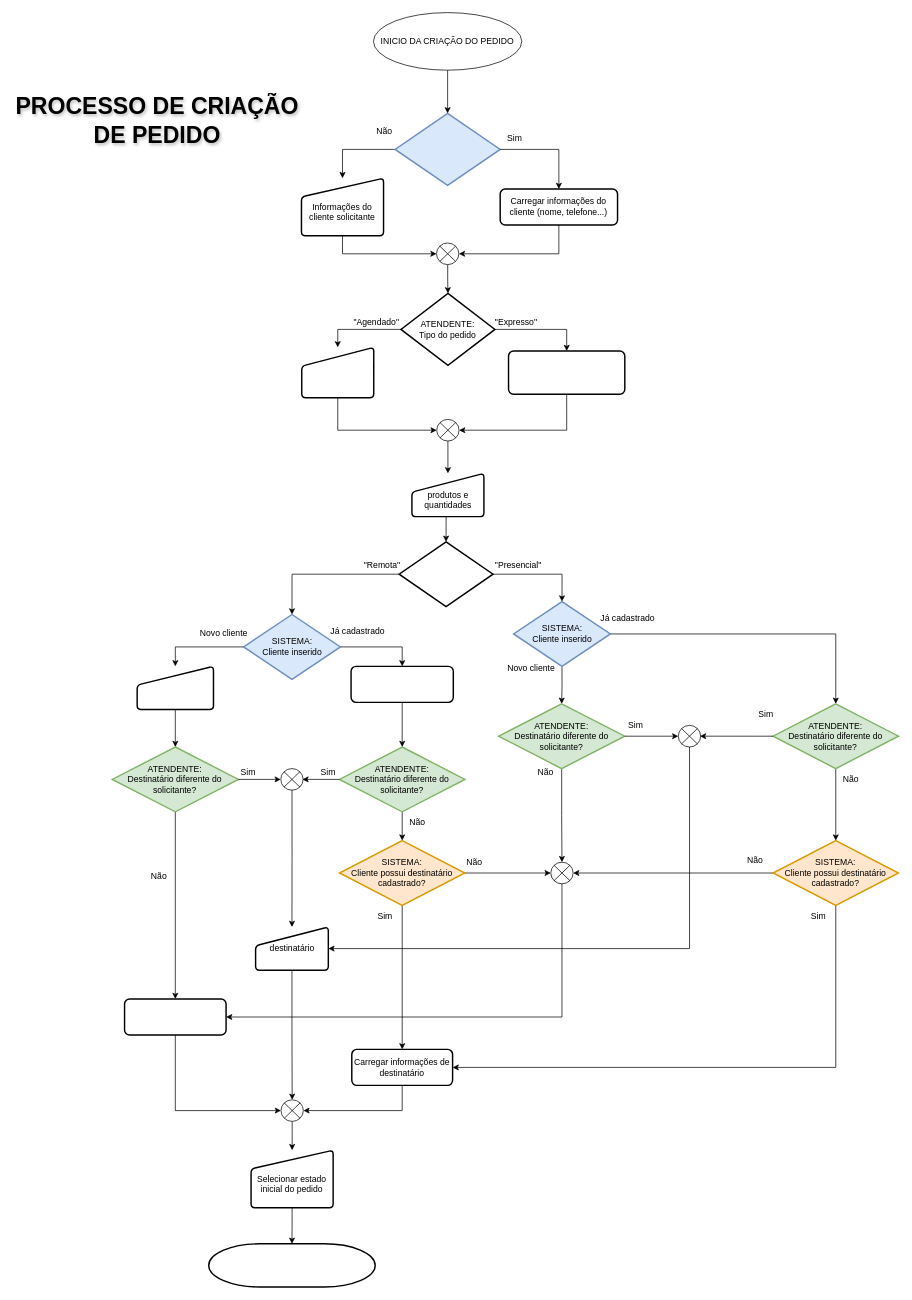
The diagram is 912 pixels wide and 1300 high, and some of its shapes have lost their labels. The centre of each missing label's shape, as x and y in pixels:
ATENDENTE: Inserir cliente já cadastrado: (x=447, y=149)
ATENDENTE: Tipo da entrega: (x=445, y=574)
Carregar data atual como data de entrega: (x=566, y=372)
Carregar endereço de entrega do cliente: (x=402, y=684)
Carregar informações do cliente inserido como destinatário: (x=174, y=1016)
Data e hora da entrega: (x=337, y=372)
endereço de entrega: (x=175, y=687)
FINALIZAR PEDIDO: (x=292, y=1265)
